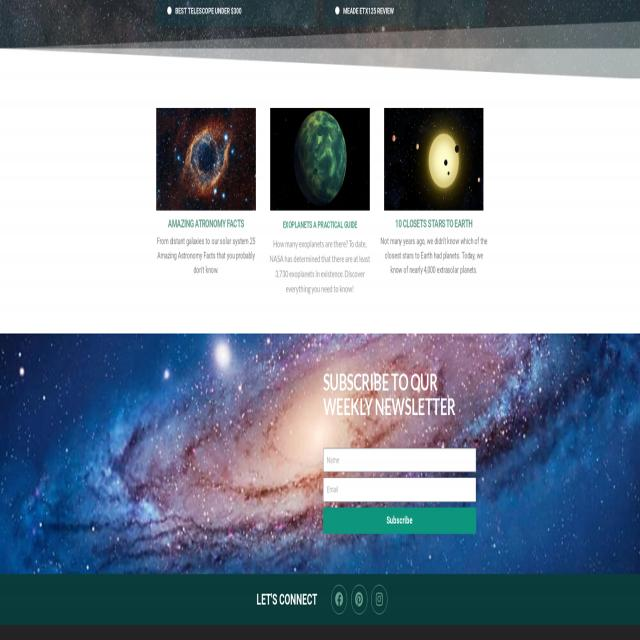button: (270, 108, 370, 211), (384, 108, 484, 211), (157, 108, 256, 211), (323, 508, 476, 534), (331, 584, 347, 614), (351, 584, 367, 614), (372, 585, 388, 614)
field: (323, 448, 476, 472), (323, 478, 476, 501)
